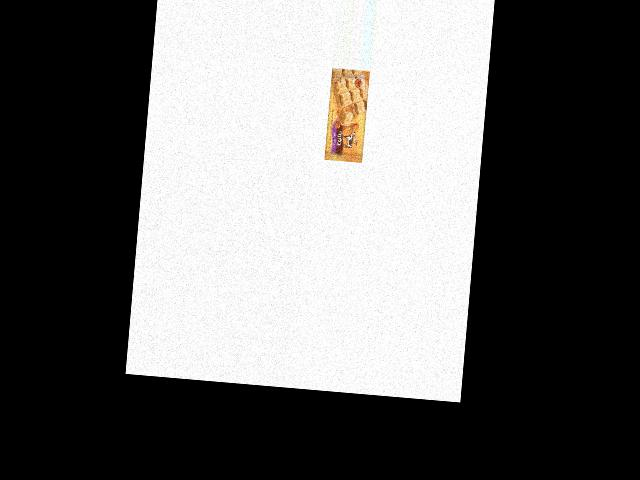chocolate: (321, 67, 369, 165)
